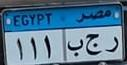1: (15, 36, 26, 64), (42, 35, 54, 60), (28, 37, 40, 61)
baa: (66, 37, 84, 58)
jeem: (84, 32, 102, 57)
raa: (105, 32, 123, 56)
